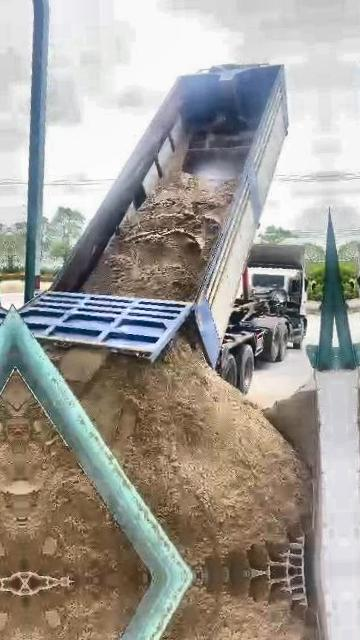sand: (50, 317, 309, 574), (17, 398, 146, 581), (83, 173, 235, 300), (265, 384, 319, 471)
